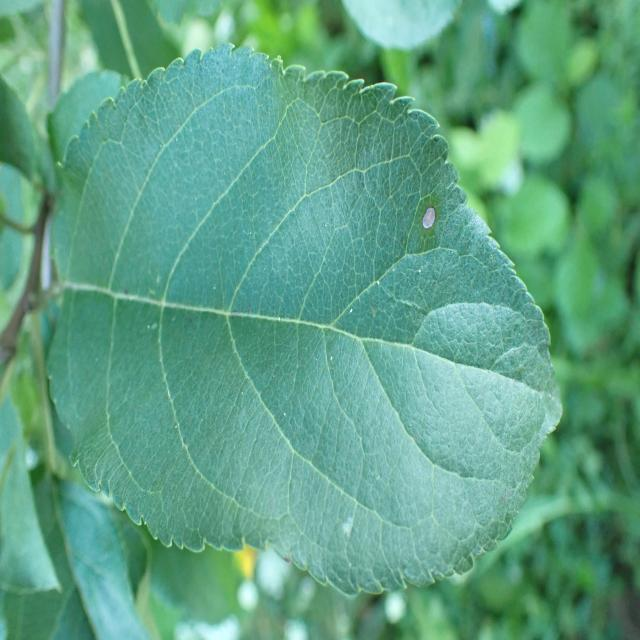frog-eye-leaf-spot: (45, 41, 564, 595)
